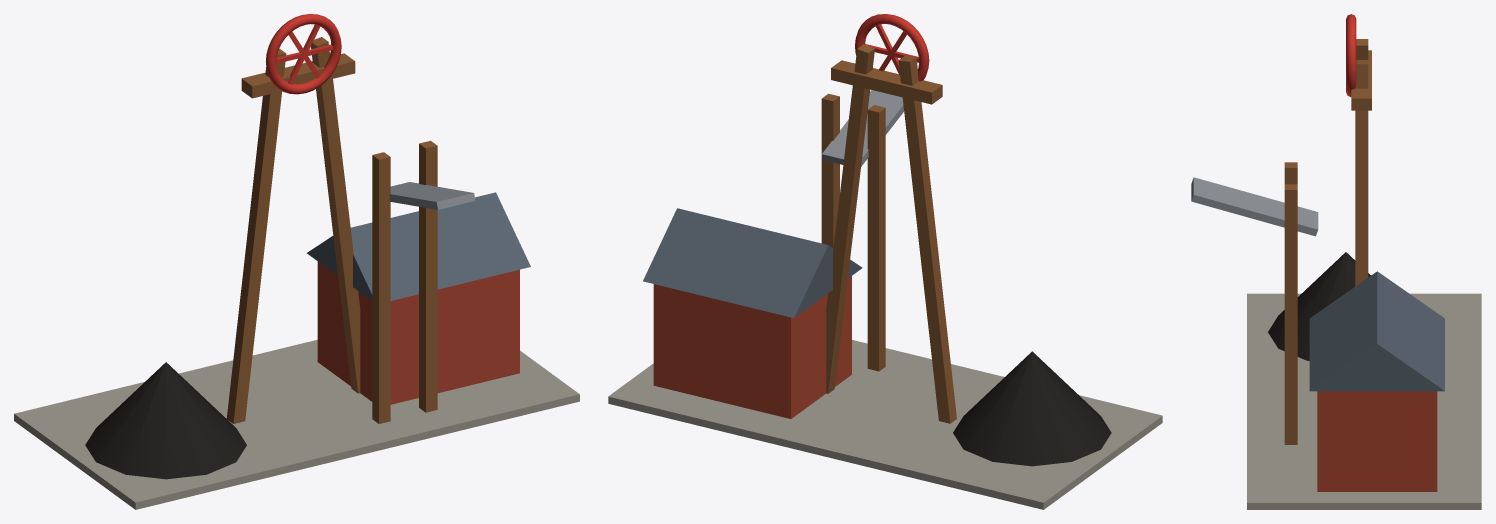
The model's file is coal-mine.glb.
3 renders of one model, left to right at view 1: azimuth 30°, elevation 25°; view 2: azimuth 150°, elevation 25°; view 3: azimuth 270°, elevation 25°, orthographic. The views are drawn at different scales.
Visible parts, largest first — view 1: stone, darkWood, brick, coal, slate, red, steel; view 2: stone, darkWood, brick, slate, coal, red, steel; view 3: stone, slate, brick, darkWood, coal, steel, red.
Part boxes in pixels (left/top/right/bottom): stone: left=14, top=339, right=579, bottom=509; darkWood: left=226, top=37, right=437, bottom=423; brick: left=317, top=261, right=519, bottom=404; coal: left=85, top=362, right=246, bottom=479; slate: left=307, top=192, right=530, bottom=300; red: left=265, top=14, right=341, bottom=94; steel: left=389, top=182, right=475, bottom=209; stone: left=608, top=340, right=1162, bottom=509; darkWood: left=821, top=44, right=956, bottom=423; brick: left=653, top=276, right=851, bottom=418; slate: left=643, top=208, right=862, bottom=317; coal: left=953, top=351, right=1111, bottom=466; red: left=855, top=14, right=929, bottom=81; steel: left=822, top=90, right=903, bottom=166; stone: left=1247, top=293, right=1481, bottom=509; slate: left=1309, top=271, right=1444, bottom=391; brick: left=1317, top=391, right=1437, bottom=491; darkWood: left=1284, top=39, right=1371, bottom=444; coal: left=1268, top=252, right=1370, bottom=360; steel: left=1191, top=177, right=1318, bottom=236; red: left=1346, top=14, right=1356, bottom=96.
Size of the model in its own units: 190 by 164 by 111.
